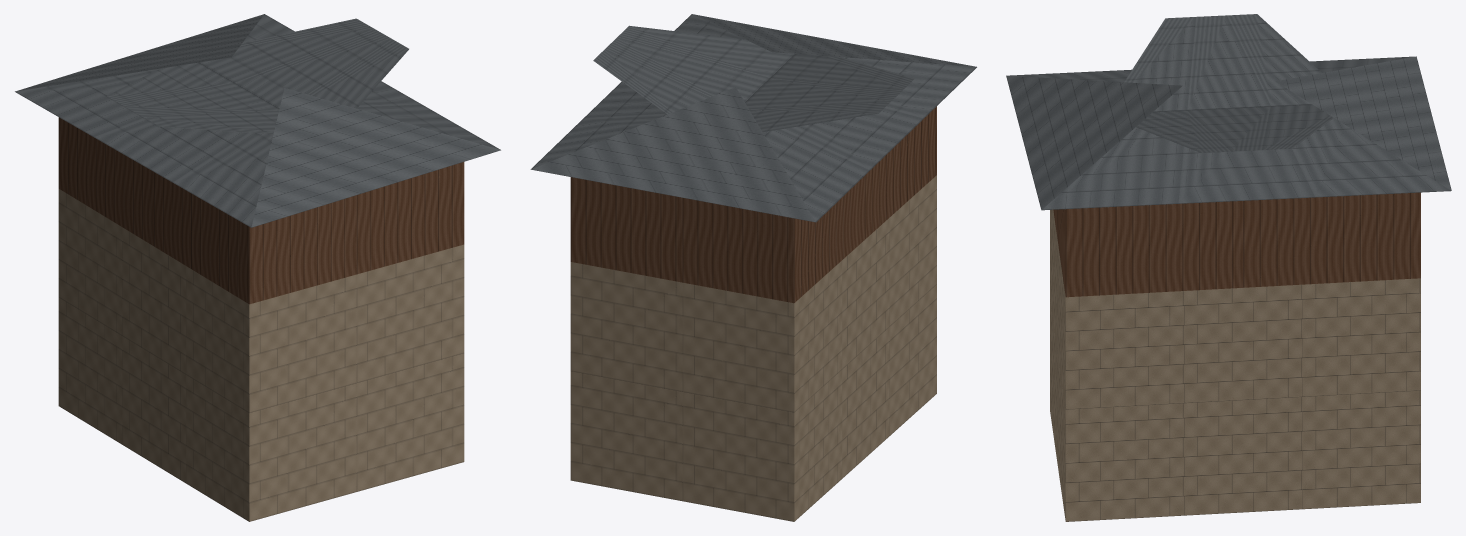
Rendered from bld_c31_48_247.gltf.
3 renders of one model, left to right at view 1: azimuth 30°, elevation 25°; view 2: azimuth 150°, elevation 25°; view 3: azimuth 270°, elevation 25°, orthographic. The views are drawn at different scales.
Parts seen in each view (by area): view 1: bld_c31_48_247; view 2: bld_c31_48_247; view 3: bld_c31_48_247.
Boxes of the visible parts, <box> form: bld_c31_48_247: <box>15,14,500,521</box>; bld_c31_48_247: <box>530,14,976,521</box>; bld_c31_48_247: <box>1006,14,1451,521</box>.
Size of the model in its own units: 6.61 by 7.5 by 8.09.
Materials: 3 (3 with a texture image).
